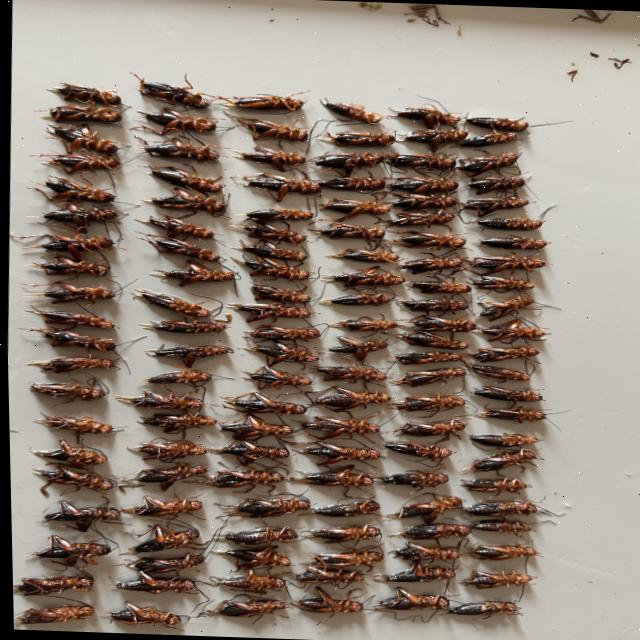no egg: (135, 216, 218, 260), (24, 535, 107, 566), (119, 462, 204, 491), (41, 500, 116, 531), (148, 260, 235, 286), (40, 204, 120, 232), (32, 466, 113, 493), (17, 233, 112, 256), (45, 124, 117, 154), (227, 115, 307, 142), (30, 439, 104, 468), (32, 176, 113, 202), (143, 188, 224, 214), (241, 174, 319, 201), (206, 440, 287, 466), (134, 290, 209, 318), (293, 442, 380, 466), (139, 79, 210, 108), (139, 79, 210, 108), (136, 108, 214, 134), (458, 449, 538, 474), (216, 414, 290, 441), (126, 524, 196, 552), (32, 416, 117, 439), (107, 601, 185, 626), (241, 339, 316, 365), (219, 495, 307, 517), (22, 307, 114, 328), (28, 329, 115, 351), (144, 345, 231, 367), (391, 496, 459, 524), (219, 392, 305, 414), (288, 586, 358, 613), (311, 388, 389, 412), (26, 255, 107, 278), (147, 167, 221, 192), (232, 257, 308, 281), (209, 545, 288, 568), (112, 571, 194, 593), (287, 465, 369, 487), (298, 416, 376, 439), (232, 146, 303, 171), (10, 573, 90, 595), (472, 318, 548, 341), (36, 153, 119, 174), (320, 267, 403, 288), (142, 138, 217, 161), (124, 440, 205, 461), (229, 241, 306, 263), (193, 468, 282, 487), (116, 496, 199, 516), (47, 83, 119, 106), (37, 282, 112, 304), (206, 569, 281, 591), (371, 588, 445, 610), (370, 562, 451, 582), (226, 303, 311, 322), (319, 198, 389, 221), (241, 366, 310, 389), (114, 391, 202, 409), (121, 553, 200, 573), (313, 153, 381, 176), (196, 599, 282, 617), (11, 604, 91, 623), (139, 412, 215, 432), (220, 94, 303, 112), (326, 336, 385, 361), (387, 368, 464, 387), (474, 295, 532, 320), (469, 256, 545, 275), (27, 382, 103, 401), (40, 105, 120, 123), (391, 420, 463, 440), (402, 129, 467, 151), (293, 565, 361, 586), (302, 524, 377, 543), (24, 357, 112, 373), (221, 526, 294, 545), (235, 223, 304, 243), (388, 393, 464, 411), (387, 542, 455, 562), (323, 101, 382, 124), (400, 314, 474, 332), (396, 107, 459, 128), (382, 441, 451, 460), (462, 196, 527, 216), (460, 570, 530, 588), (314, 365, 384, 383), (397, 331, 466, 349), (377, 470, 445, 488), (456, 154, 517, 174), (459, 544, 535, 560), (393, 232, 464, 249), (310, 549, 379, 566), (389, 152, 454, 170), (466, 363, 527, 382), (444, 601, 516, 617), (245, 325, 317, 341), (137, 320, 225, 333), (250, 283, 307, 303), (232, 94, 303, 110), (468, 276, 533, 293), (398, 523, 467, 539), (475, 407, 543, 423), (460, 476, 527, 492), (309, 500, 376, 516), (316, 223, 383, 239), (471, 346, 537, 362), (232, 208, 313, 221), (470, 386, 540, 401), (323, 248, 398, 262), (461, 501, 535, 515), (317, 292, 391, 306), (398, 258, 462, 274), (465, 519, 528, 535), (391, 194, 454, 210), (389, 178, 456, 193), (467, 433, 538, 447), (466, 217, 541, 230), (326, 317, 395, 331), (388, 212, 452, 227), (467, 177, 523, 194), (397, 299, 465, 313), (464, 116, 527, 131), (316, 177, 383, 191), (332, 131, 393, 146), (142, 370, 209, 383), (458, 132, 515, 147), (477, 237, 547, 249), (393, 352, 460, 364), (406, 281, 468, 293), (94, 423, 104, 431), (69, 190, 82, 195), (424, 379, 434, 383)
